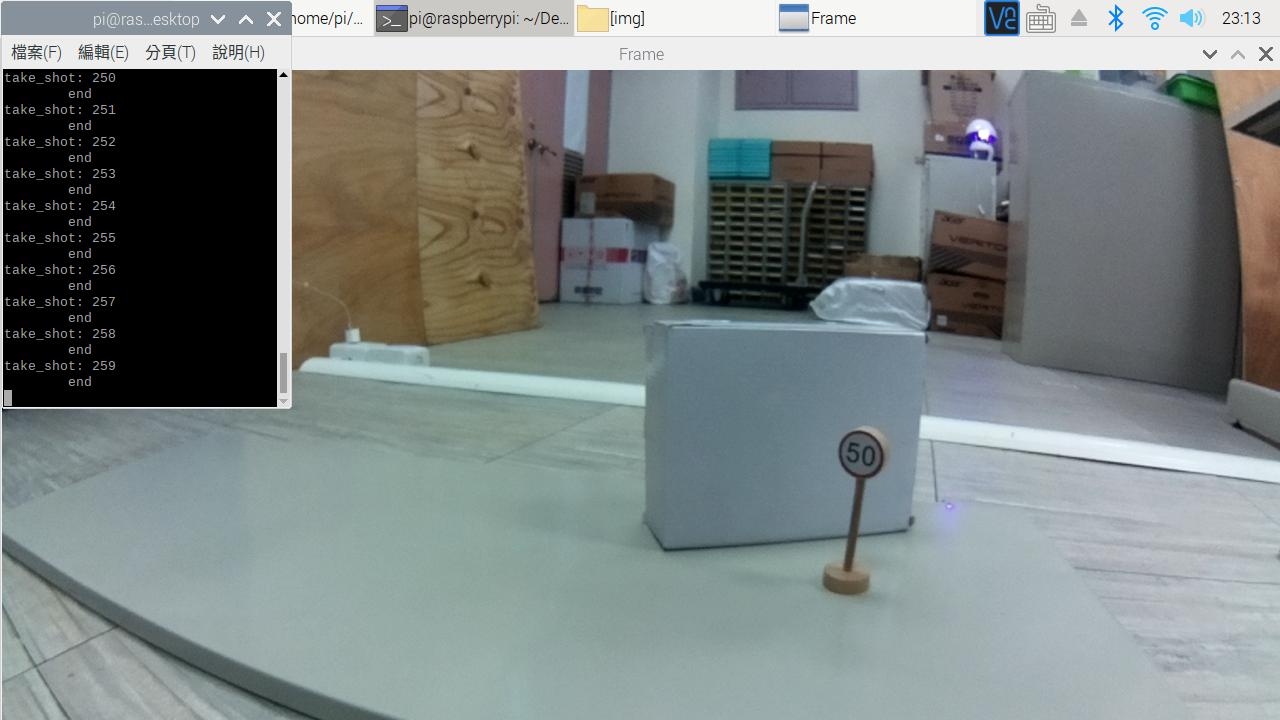Speed50: (827, 416, 912, 487)
